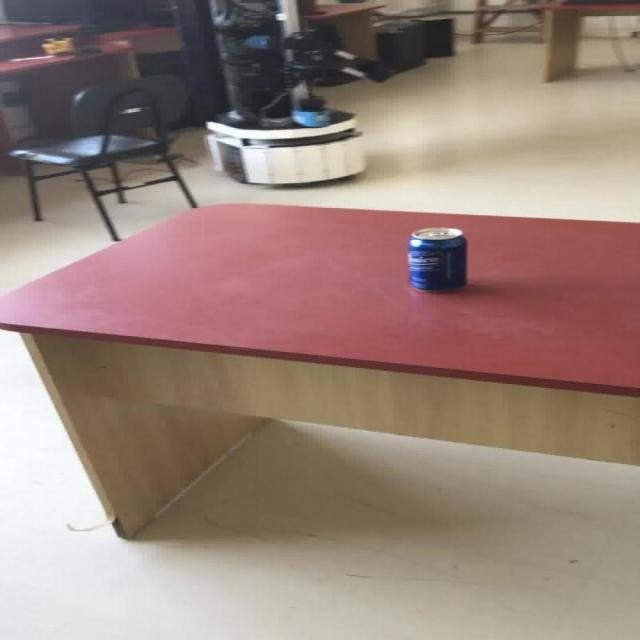Tonic: (405, 226, 467, 291)
